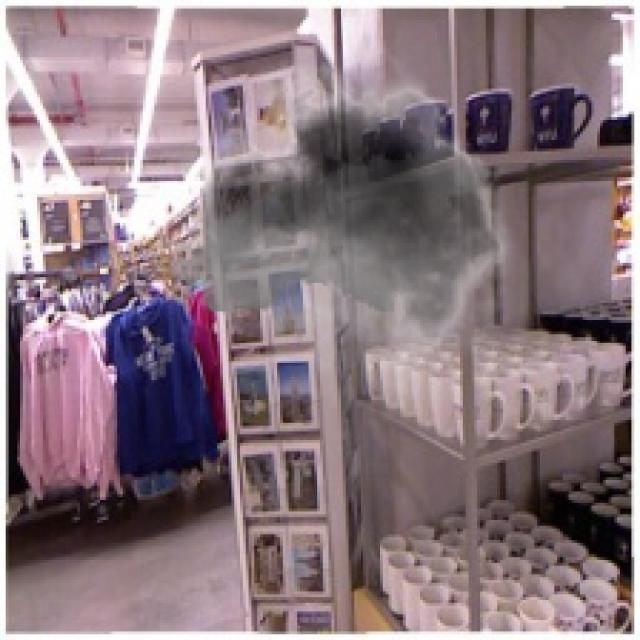Smoke: (166, 42, 532, 412)
